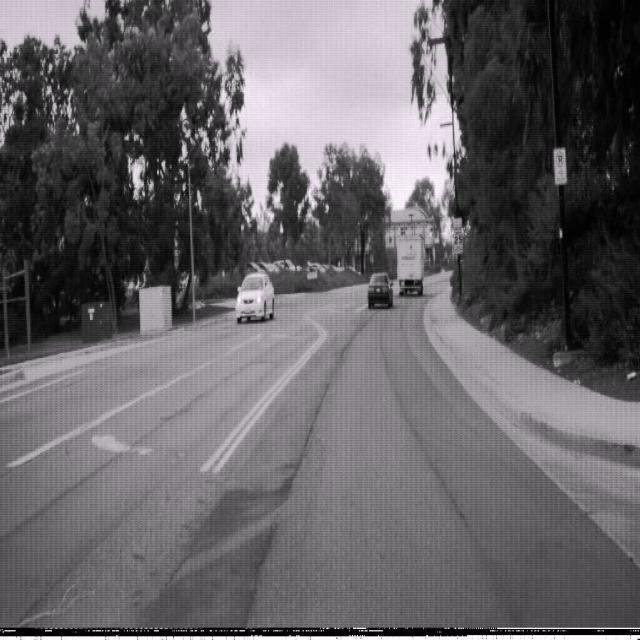speedLimit25: (453, 216, 463, 255)
